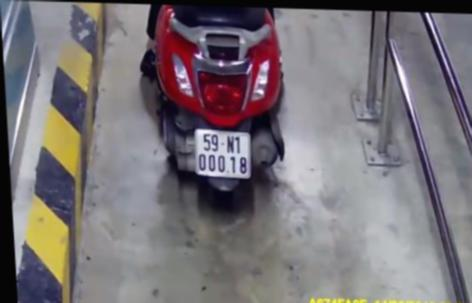License_Plate: (188, 123, 258, 187)
